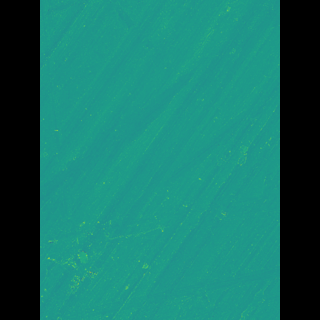Loch: (68, 0, 185, 215), (70, 262, 250, 320)
